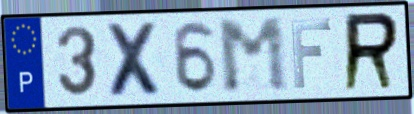3: (53, 24, 98, 100)
6: (171, 19, 219, 97)
F: (288, 17, 334, 91)
M: (214, 14, 292, 97)
R: (340, 10, 402, 95)
X: (103, 19, 168, 99)
